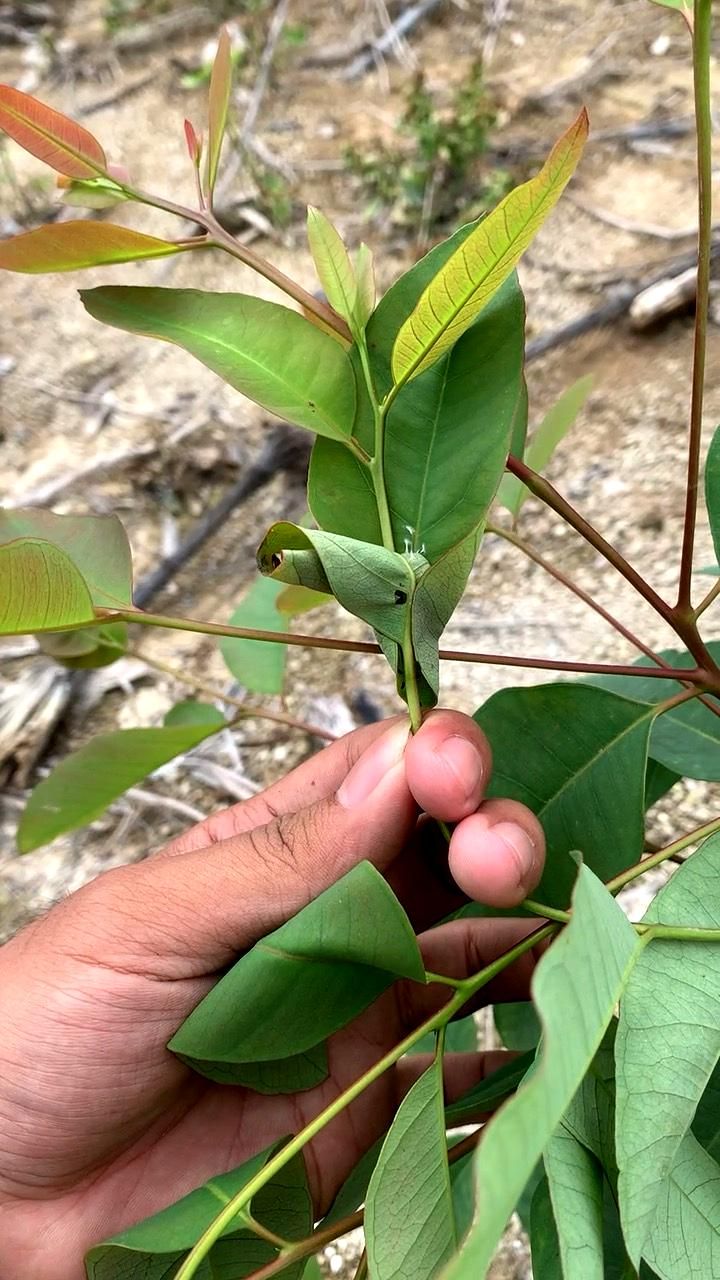Leaf Roller - Leaf: (230, 498, 493, 688)
